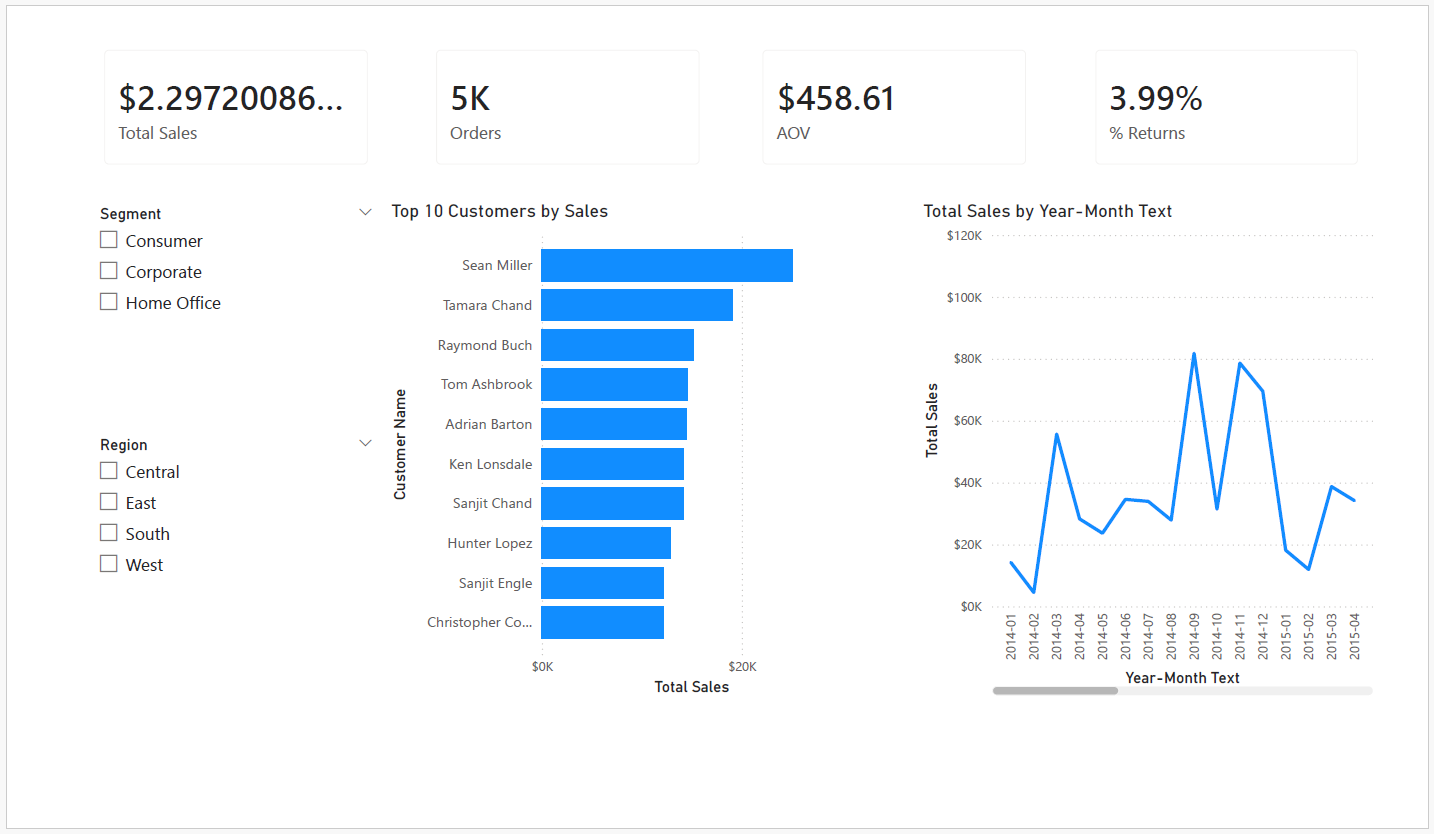

This screenshot's page, from the dashboard's own definition file:
{"tool":"powerbi","page":{"name":"Customer","canvas":[1280,720],"ordinal":3},"visuals":[{"type":"cardVisual","fields":{"Data":["_Measures.Total Sales"]},"box":[50.1,0,279.7,140.6],"z":0},{"type":"cardVisual","fields":{"Data":["_Measures.Orders"]},"box":[360.4,0,279.7,140.6],"z":1000},{"type":"cardVisual","fields":{"Data":["_Measures.AOV"]},"box":[665.2,0,279.7,140.6],"z":2000},{"type":"cardVisual","fields":{"Data":["_Measures.% Returns"]},"box":[975.5,0,279.7,140.6],"z":3000},{"type":"slicer","fields":{"Values":["DimCustomer.Segment"]},"box":[50.1,157.3,279.7,150.3],"z":4000},{"type":"slicer","fields":{"Values":["DimRegion.Region"]},"box":[50.1,373,279.7,193.4],"z":5000},{"type":"clusteredBarChart","title":"Top 10 Customers by Sales","fields":{"Category":["DimCustomer.Customer Name"],"Y":["_Measures.Total Sales"]},"box":[329.8,157.3,445.3,467.6],"z":6000},{"type":"lineChart","fields":{"Y":["_Measures.Total Sales"],"Category":["DimDate.Year-Month Text"]},"box":[826.6,157.3,430,467.6],"z":7000}]}

Visuals, with their boxes on the page's 1280x720 design canvas (x1, y1, x2, y2). These are canvas units, not pixel positions in the 1434x834 screenshot, which may show the page scaled, cropped or inside an application window:
cardVisual - _Measures.Total Sales: 50, 0, 330, 141
cardVisual - _Measures.Orders: 360, 0, 640, 141
cardVisual - _Measures.AOV: 665, 0, 945, 141
cardVisual - _Measures.% Returns: 976, 0, 1255, 141
slicer - DimCustomer.Segment: 50, 157, 330, 308
slicer - DimRegion.Region: 50, 373, 330, 566
"Top 10 Customers by Sales" clusteredBarChart: 330, 157, 775, 625
lineChart - _Measures.Total Sales x DimDate.Year-Month Text: 827, 157, 1257, 625
